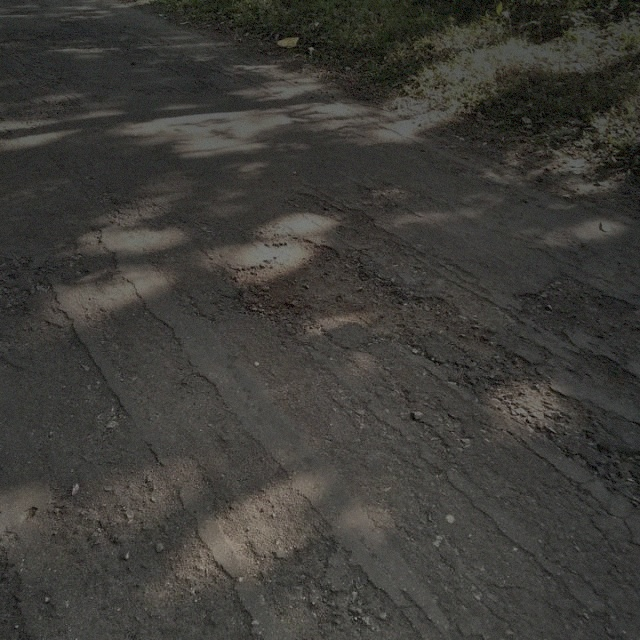pothole: (234, 234, 417, 338), (513, 273, 639, 341)
